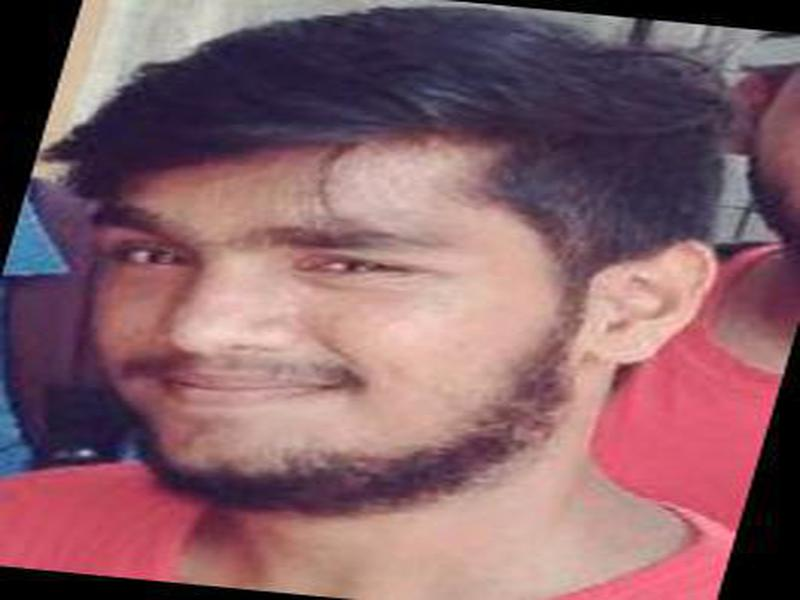without_mask: (87, 134, 589, 510)
